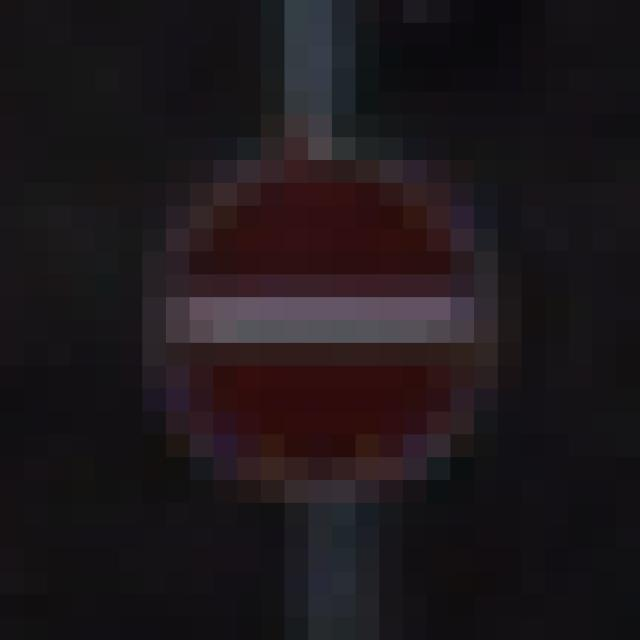No Entry: (143, 115, 523, 527)
